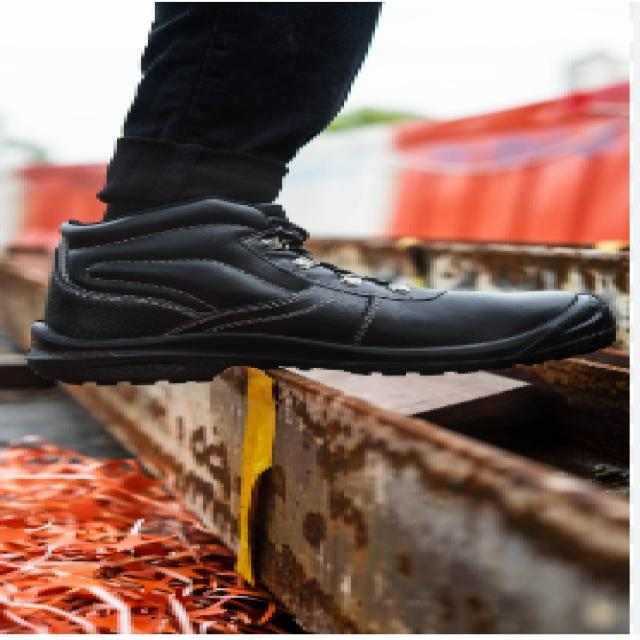shoes: (9, 172, 635, 399)
